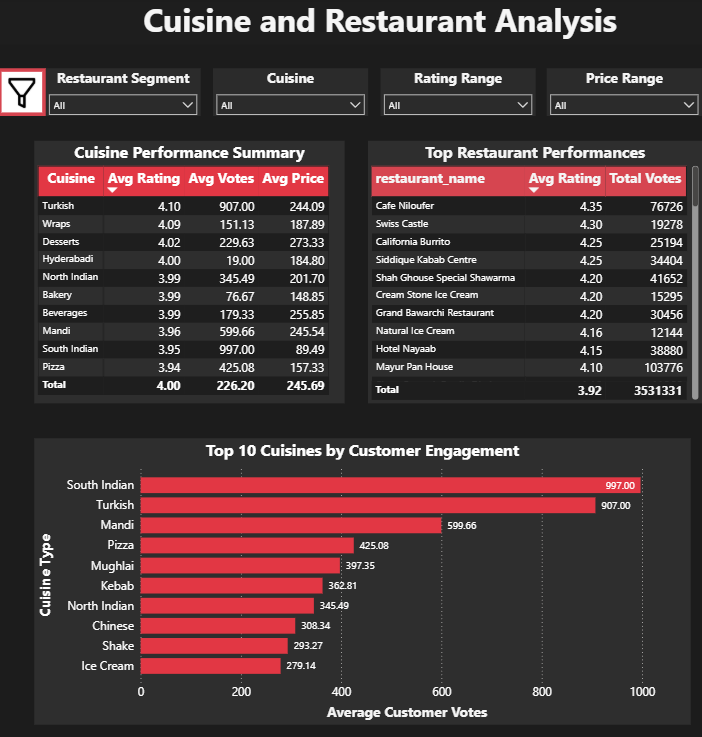

The page's visual inventory and layout, read from the dashboard file:
{"tool":"powerbi","page":{"name":"Page 2","canvas":[950,1000],"ordinal":1},"visuals":[{"type":"pivotTable","title":"Cuisine Performance Summary","fields":{"Rows":["zomato_final.cuisine"],"Values":["Avg(zomato_final.avg_rating)","Avg(zomato_final.total_votes)","Avg(zomato_final.price)"]},"box":[32,192,416,352],"z":0},{"type":"actionButton","box":[0,0,100,40],"z":1000},{"type":"pivotTable","title":"Top Restaurant Performance","fields":{"Rows":["zomato_hyderabad_cleaned.restaurant_name"],"Values":["Avg(zomato_hyderabad_cleaned.avg_rating)","Sum(zomato_hyderabad_cleaned.total_votes)"]},"box":[464,192,448,352],"z":2000},{"type":"slicer","title":"Restaurant Segment","fields":{"Values":["zomato_final.segment"]},"box":[64,96,208,80],"z":3000},{"type":"slicer","title":"Cuisine","fields":{"Values":["zomato_final.cuisine"]},"box":[288,96,208,80],"z":4000},{"type":"slicer","title":"Rating Range","fields":{"Values":["zomato_final.avg_rating"]},"box":[512,96,208,80],"z":5000},{"type":"slicer","title":"Price Range","fields":{"Values":["zomato_final.price"]},"box":[736,96,208,80],"z":6000},{"type":"clusteredBarChart","title":"Top 10 Cuisines by Customer Engagement","fields":{"Category":["zomato_final.cuisine"],"Y":["Avg(zomato_final.total_votes)"]},"box":[32,576,880,400],"z":7000},{"type":"textbox","title":"Cuisine and Restaurant Analysis","box":[-74,0,1024,64],"z":8000},{"type":"image","box":[16,112,48,48],"z":9000}]}

Visuals, with their boxes in screenshot pixels (x1, y1, x2, y2), scaled from the page's 950x1000 canvas onto the 702x737 screenshot:
"Cuisine Performance Summary" pivotTable: BBox(24, 142, 331, 401)
actionButton: BBox(0, 0, 74, 29)
"Top Restaurant Performance" pivotTable: BBox(343, 142, 674, 401)
"Restaurant Segment" slicer: BBox(47, 71, 201, 130)
"Cuisine" slicer: BBox(213, 71, 367, 130)
"Rating Range" slicer: BBox(378, 71, 532, 130)
"Price Range" slicer: BBox(544, 71, 698, 130)
"Top 10 Cuisines by Customer Engagement" clusteredBarChart: BBox(24, 425, 674, 719)
"Cuisine and Restaurant Analysis" textbox: BBox(0, 0, 701, 47)
image: BBox(12, 83, 47, 118)
